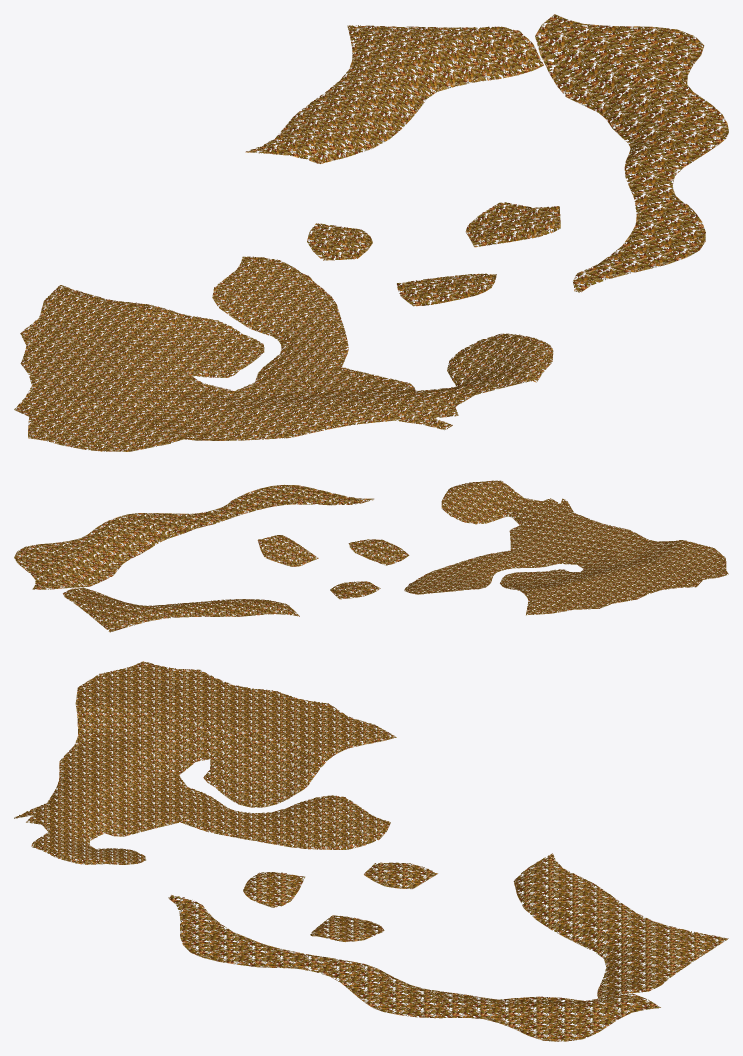
Rendered from LVL_ROAST_MUTTON_DRIED_LEAVES03.fbx.
3 renders of one model, top to bottom at view 1: azimuth 30°, elevation 25°; view 2: azimuth 150°, elevation 25°; view 3: azimuth 270°, elevation 25°, orthographic. The views are drawn at different scales.
Parts seen in each view (by area): view 1: LVL_ROAST_MUTTON_DRIED_LEAVES03; view 2: LVL_ROAST_MUTTON_DRIED_LEAVES03; view 3: LVL_ROAST_MUTTON_DRIED_LEAVES03.
Part boxes in pixels (left/top/right/bottom): LVL_ROAST_MUTTON_DRIED_LEAVES03: left=14, top=14, right=728, bottom=451; LVL_ROAST_MUTTON_DRIED_LEAVES03: left=14, top=480, right=728, bottom=632; LVL_ROAST_MUTTON_DRIED_LEAVES03: left=14, top=661, right=728, bottom=1041.
Bounding box in the file's own units: 710241 × 23257 × 568338.
6 materials, 6 textured.
